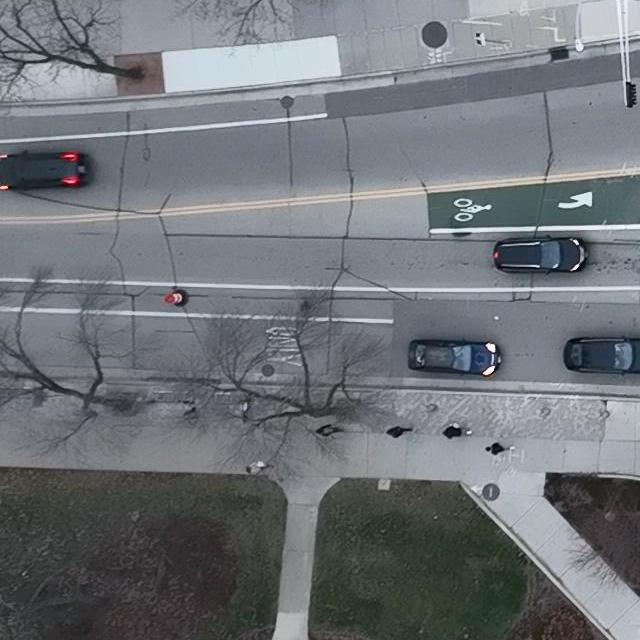car: (492, 234, 589, 276), (0, 149, 94, 190), (408, 338, 502, 377), (563, 336, 640, 376)
